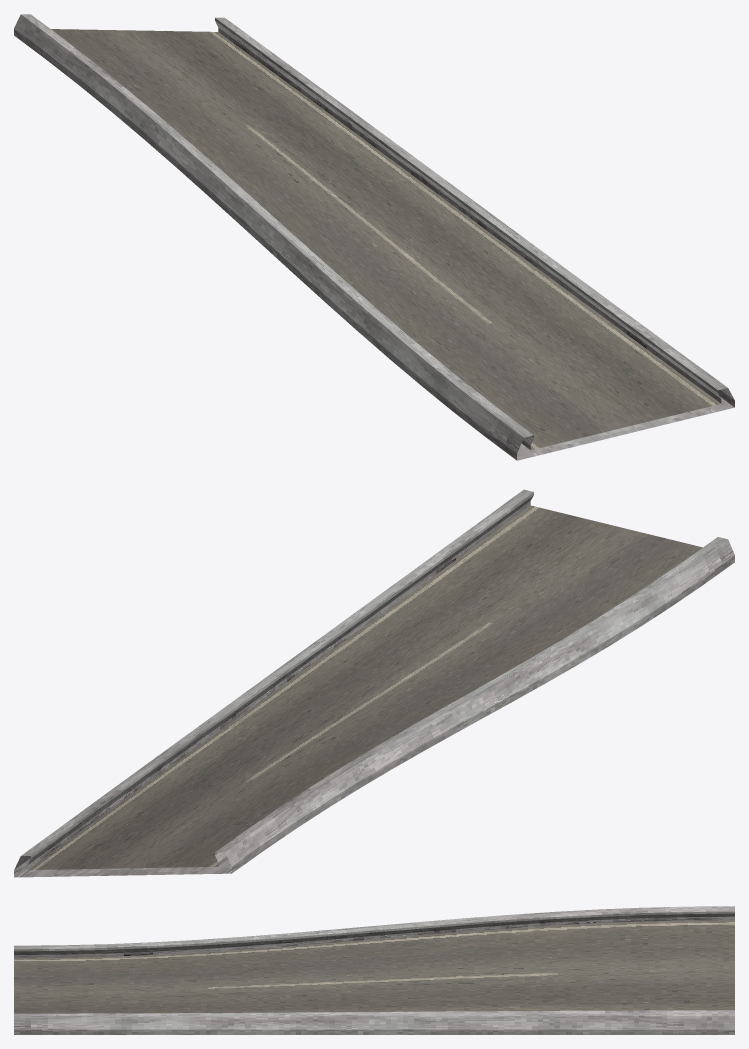
The model's file is road-Straight-Flat-HalfBankedRight-Even-Center-Size4.glb.
3 views of the same model, one above another, from view 1: azimuth 30°, elevation 25°; view 2: azimuth 150°, elevation 25°; view 3: azimuth 270°, elevation 25° (orthographic). The views are drawn at different scales.
Visible parts, largest first — view 1: road-Straight-Flat-HalfBankedRight-Even-Center-Size4; view 2: road-Straight-Flat-HalfBankedRight-Even-Center-Size4; view 3: road-Straight-Flat-HalfBankedRight-Even-Center-Size4.
Part boxes in pixels (<box>): road-Straight-Flat-HalfBankedRight-Even-Center-Size4: <box>14,14,734,460</box>; road-Straight-Flat-HalfBankedRight-Even-Center-Size4: <box>14,489,734,877</box>; road-Straight-Flat-HalfBankedRight-Even-Center-Size4: <box>14,906,734,1034</box>.
Size of the model in its own units: 1 by 0.3359 by 4.
Materials: 2 (2 with a texture image).
